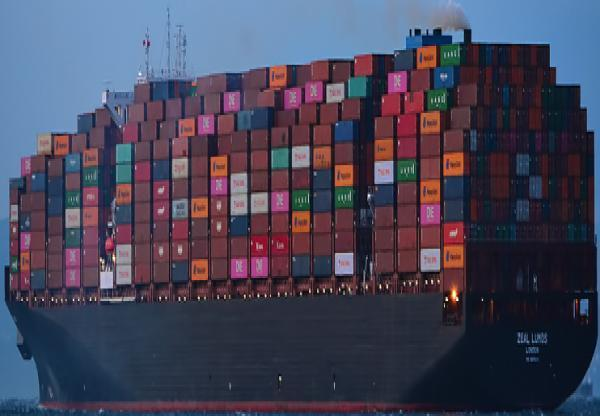Container Ship: (3, 22, 598, 414)
